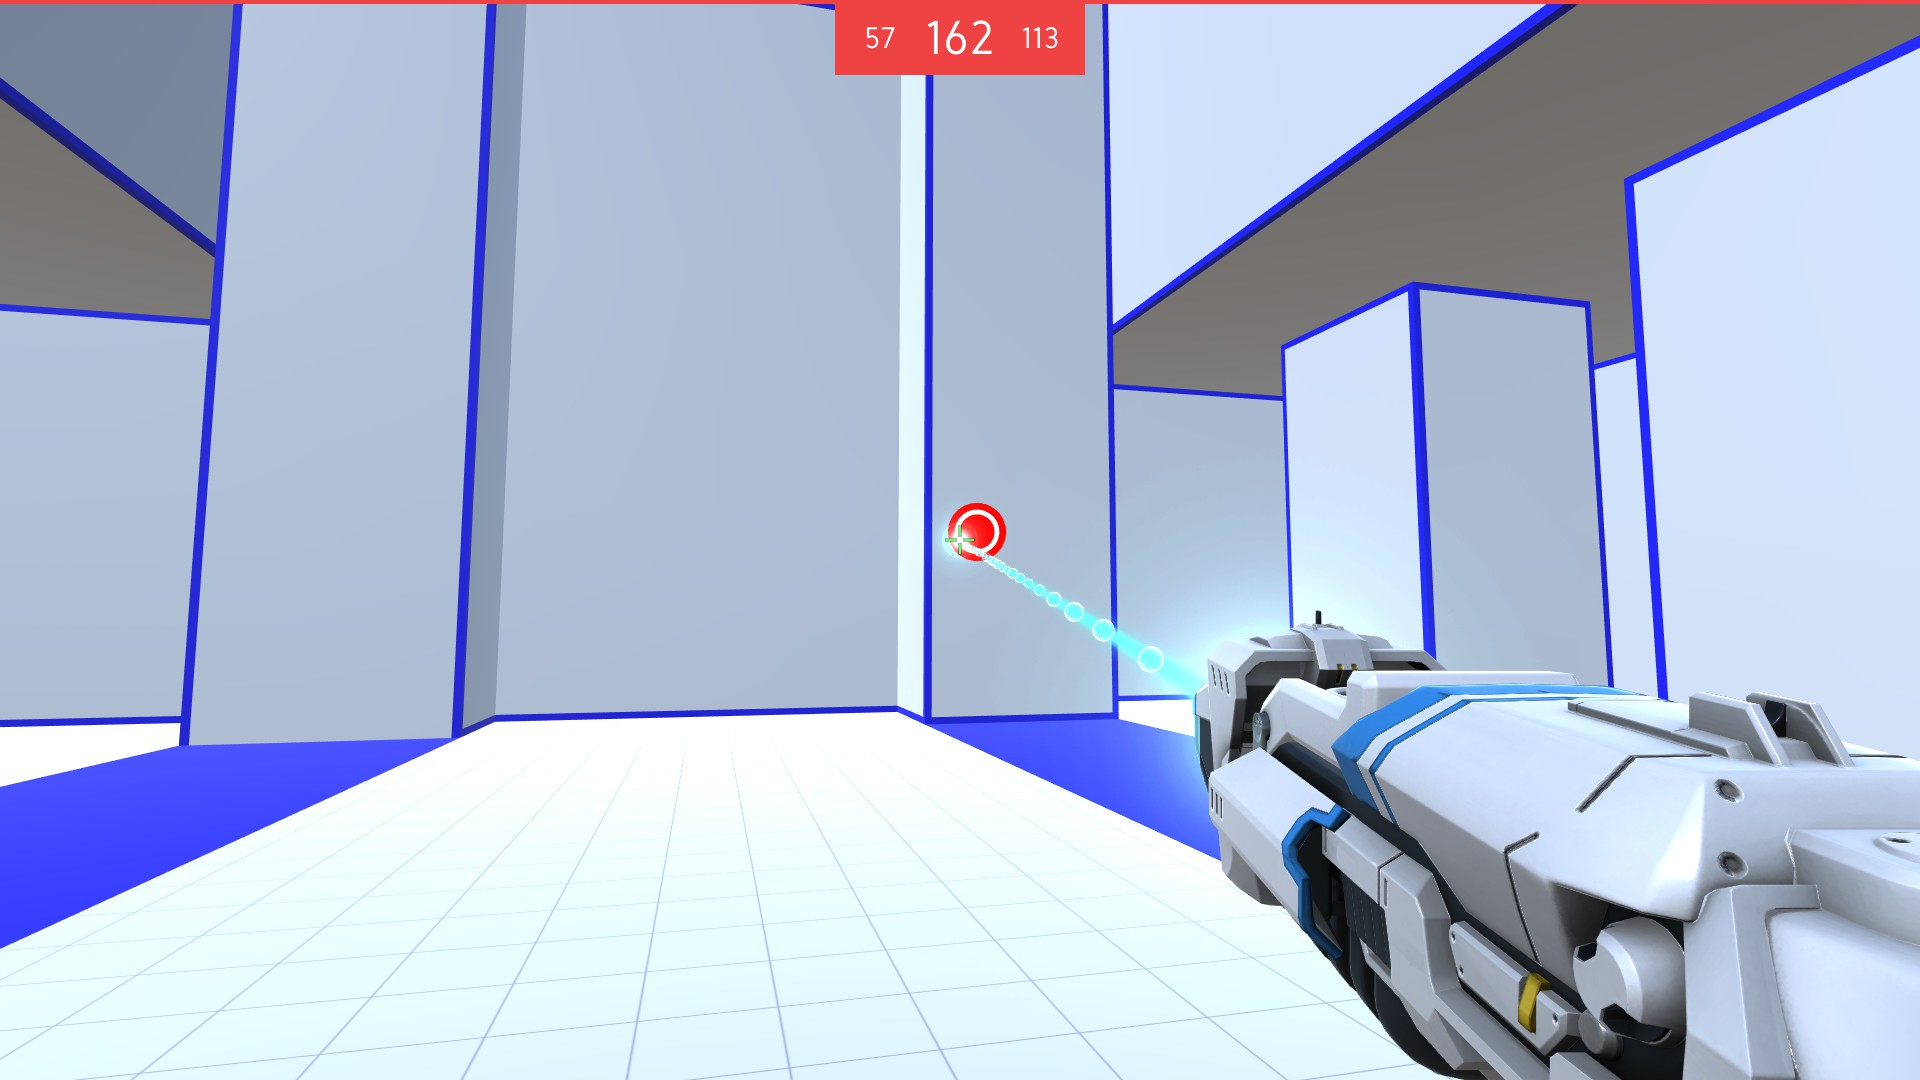target: (939, 501, 1015, 566)
